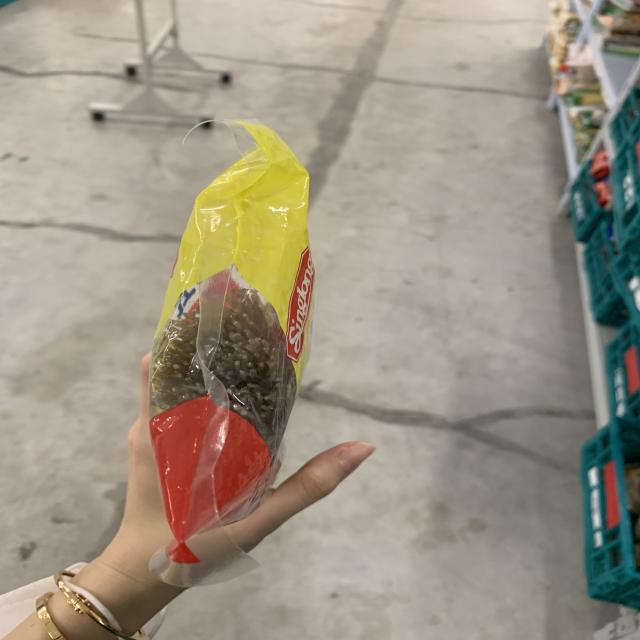object_name: (158, 117, 290, 538)
